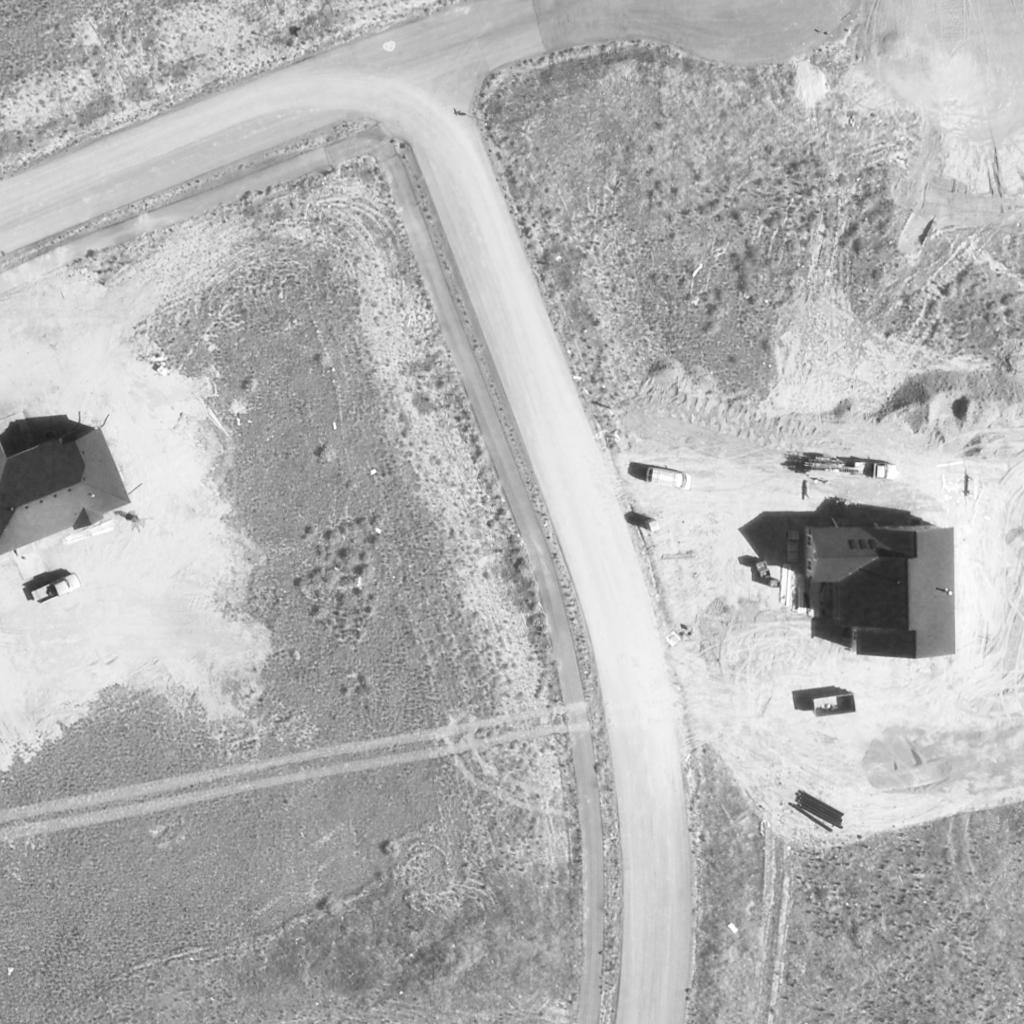vehicle: (804, 456, 900, 482), (31, 574, 81, 606), (643, 467, 693, 493)
